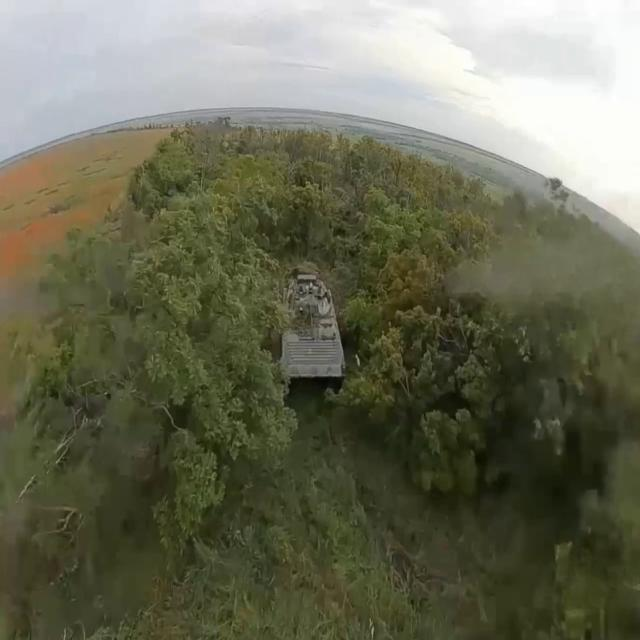AIFV: (278, 273, 348, 392)
